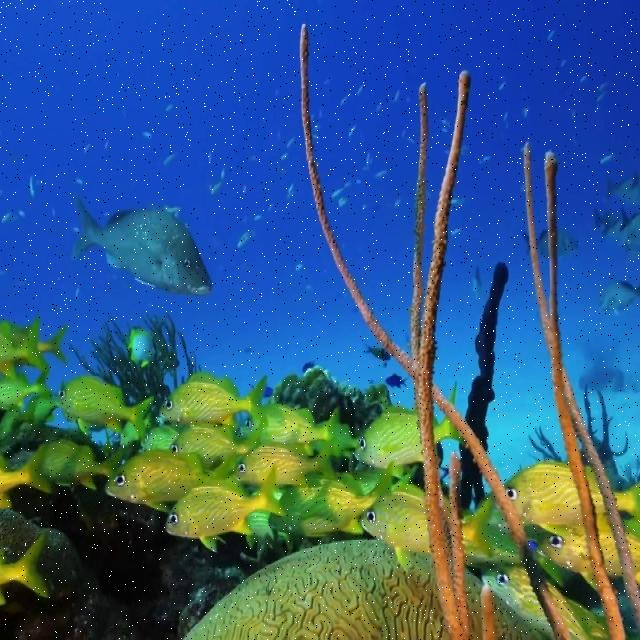aquatic plants: (71, 308, 199, 400)
fish: (71, 189, 215, 298), (167, 466, 287, 553), (270, 465, 392, 539), (105, 451, 244, 512), (161, 372, 267, 431), (57, 377, 153, 441), (508, 461, 583, 535), (485, 567, 554, 633), (361, 494, 433, 557), (37, 440, 129, 489), (235, 443, 335, 487), (353, 408, 423, 468), (268, 402, 339, 453), (0, 533, 50, 605), (169, 425, 263, 463), (543, 527, 598, 591), (0, 446, 53, 512), (0, 315, 53, 379), (464, 491, 496, 560), (0, 373, 52, 408), (125, 323, 158, 369), (600, 281, 639, 317), (432, 416, 464, 444)
reefs: (299, 18, 577, 639), (521, 139, 639, 639), (183, 542, 450, 639), (466, 260, 508, 447)
